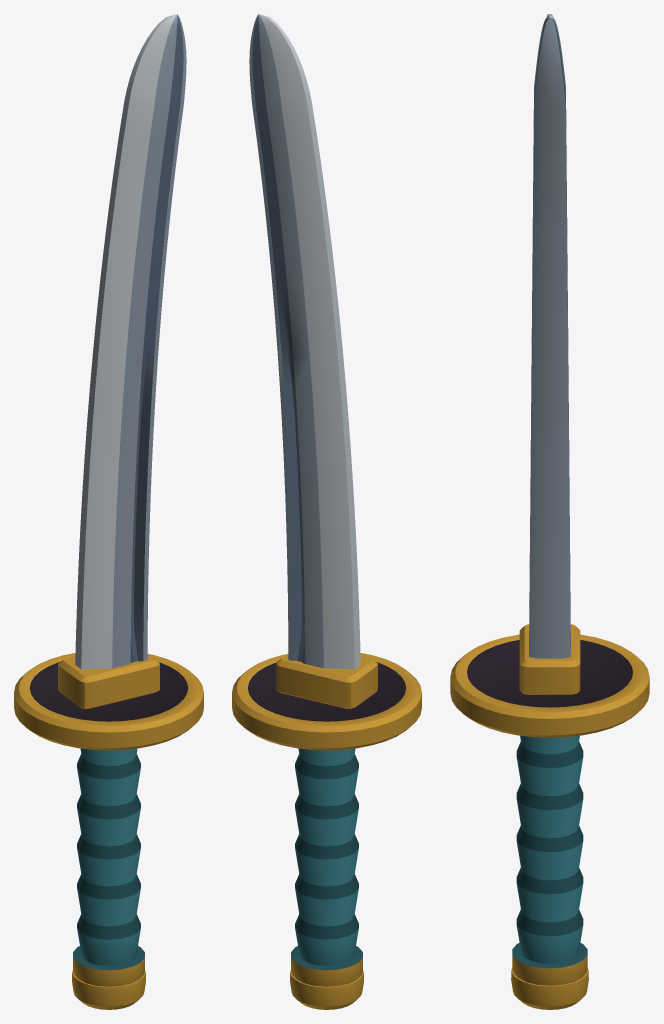
The model's file is Katana_04.glb.
3 renders of one model, left to right at view 1: azimuth 30°, elevation 25°; view 2: azimuth 150°, elevation 25°; view 3: azimuth 270°, elevation 25°, orthographic. The views are drawn at different scales.
Visible parts, largest first — view 1: Katana_04; view 2: Katana_04; view 3: Katana_04.
Boxes of the visible parts, x1,y1,x2,y2 form: Katana_04: (14,14,203,1009); Katana_04: (232,14,421,1009); Katana_04: (450,14,649,1009).
Size of the model in its own units: 1.21 by 6.79 by 1.21.
